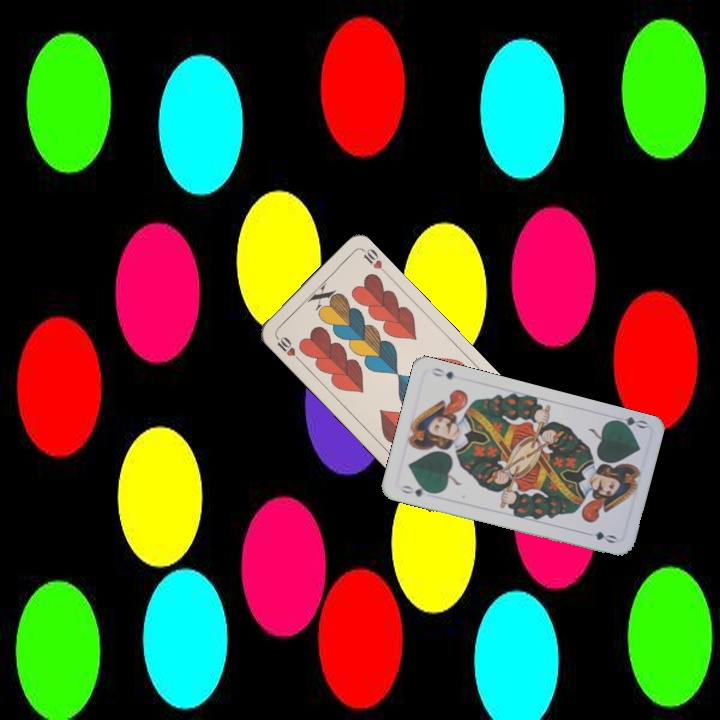GO: (608, 412, 650, 433), (397, 481, 436, 500)
H10: (271, 331, 303, 364)
